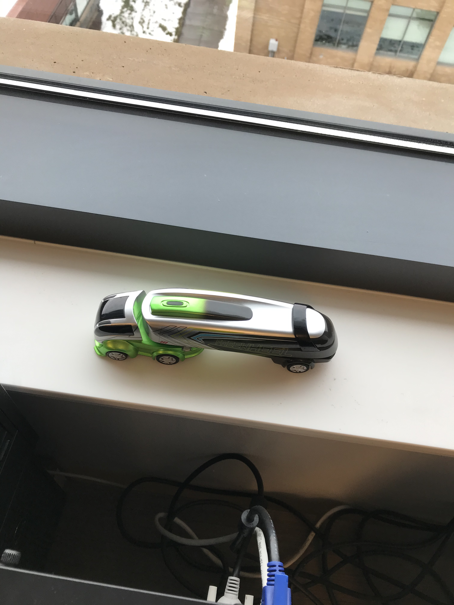Freewheel: (92, 287, 338, 379)
